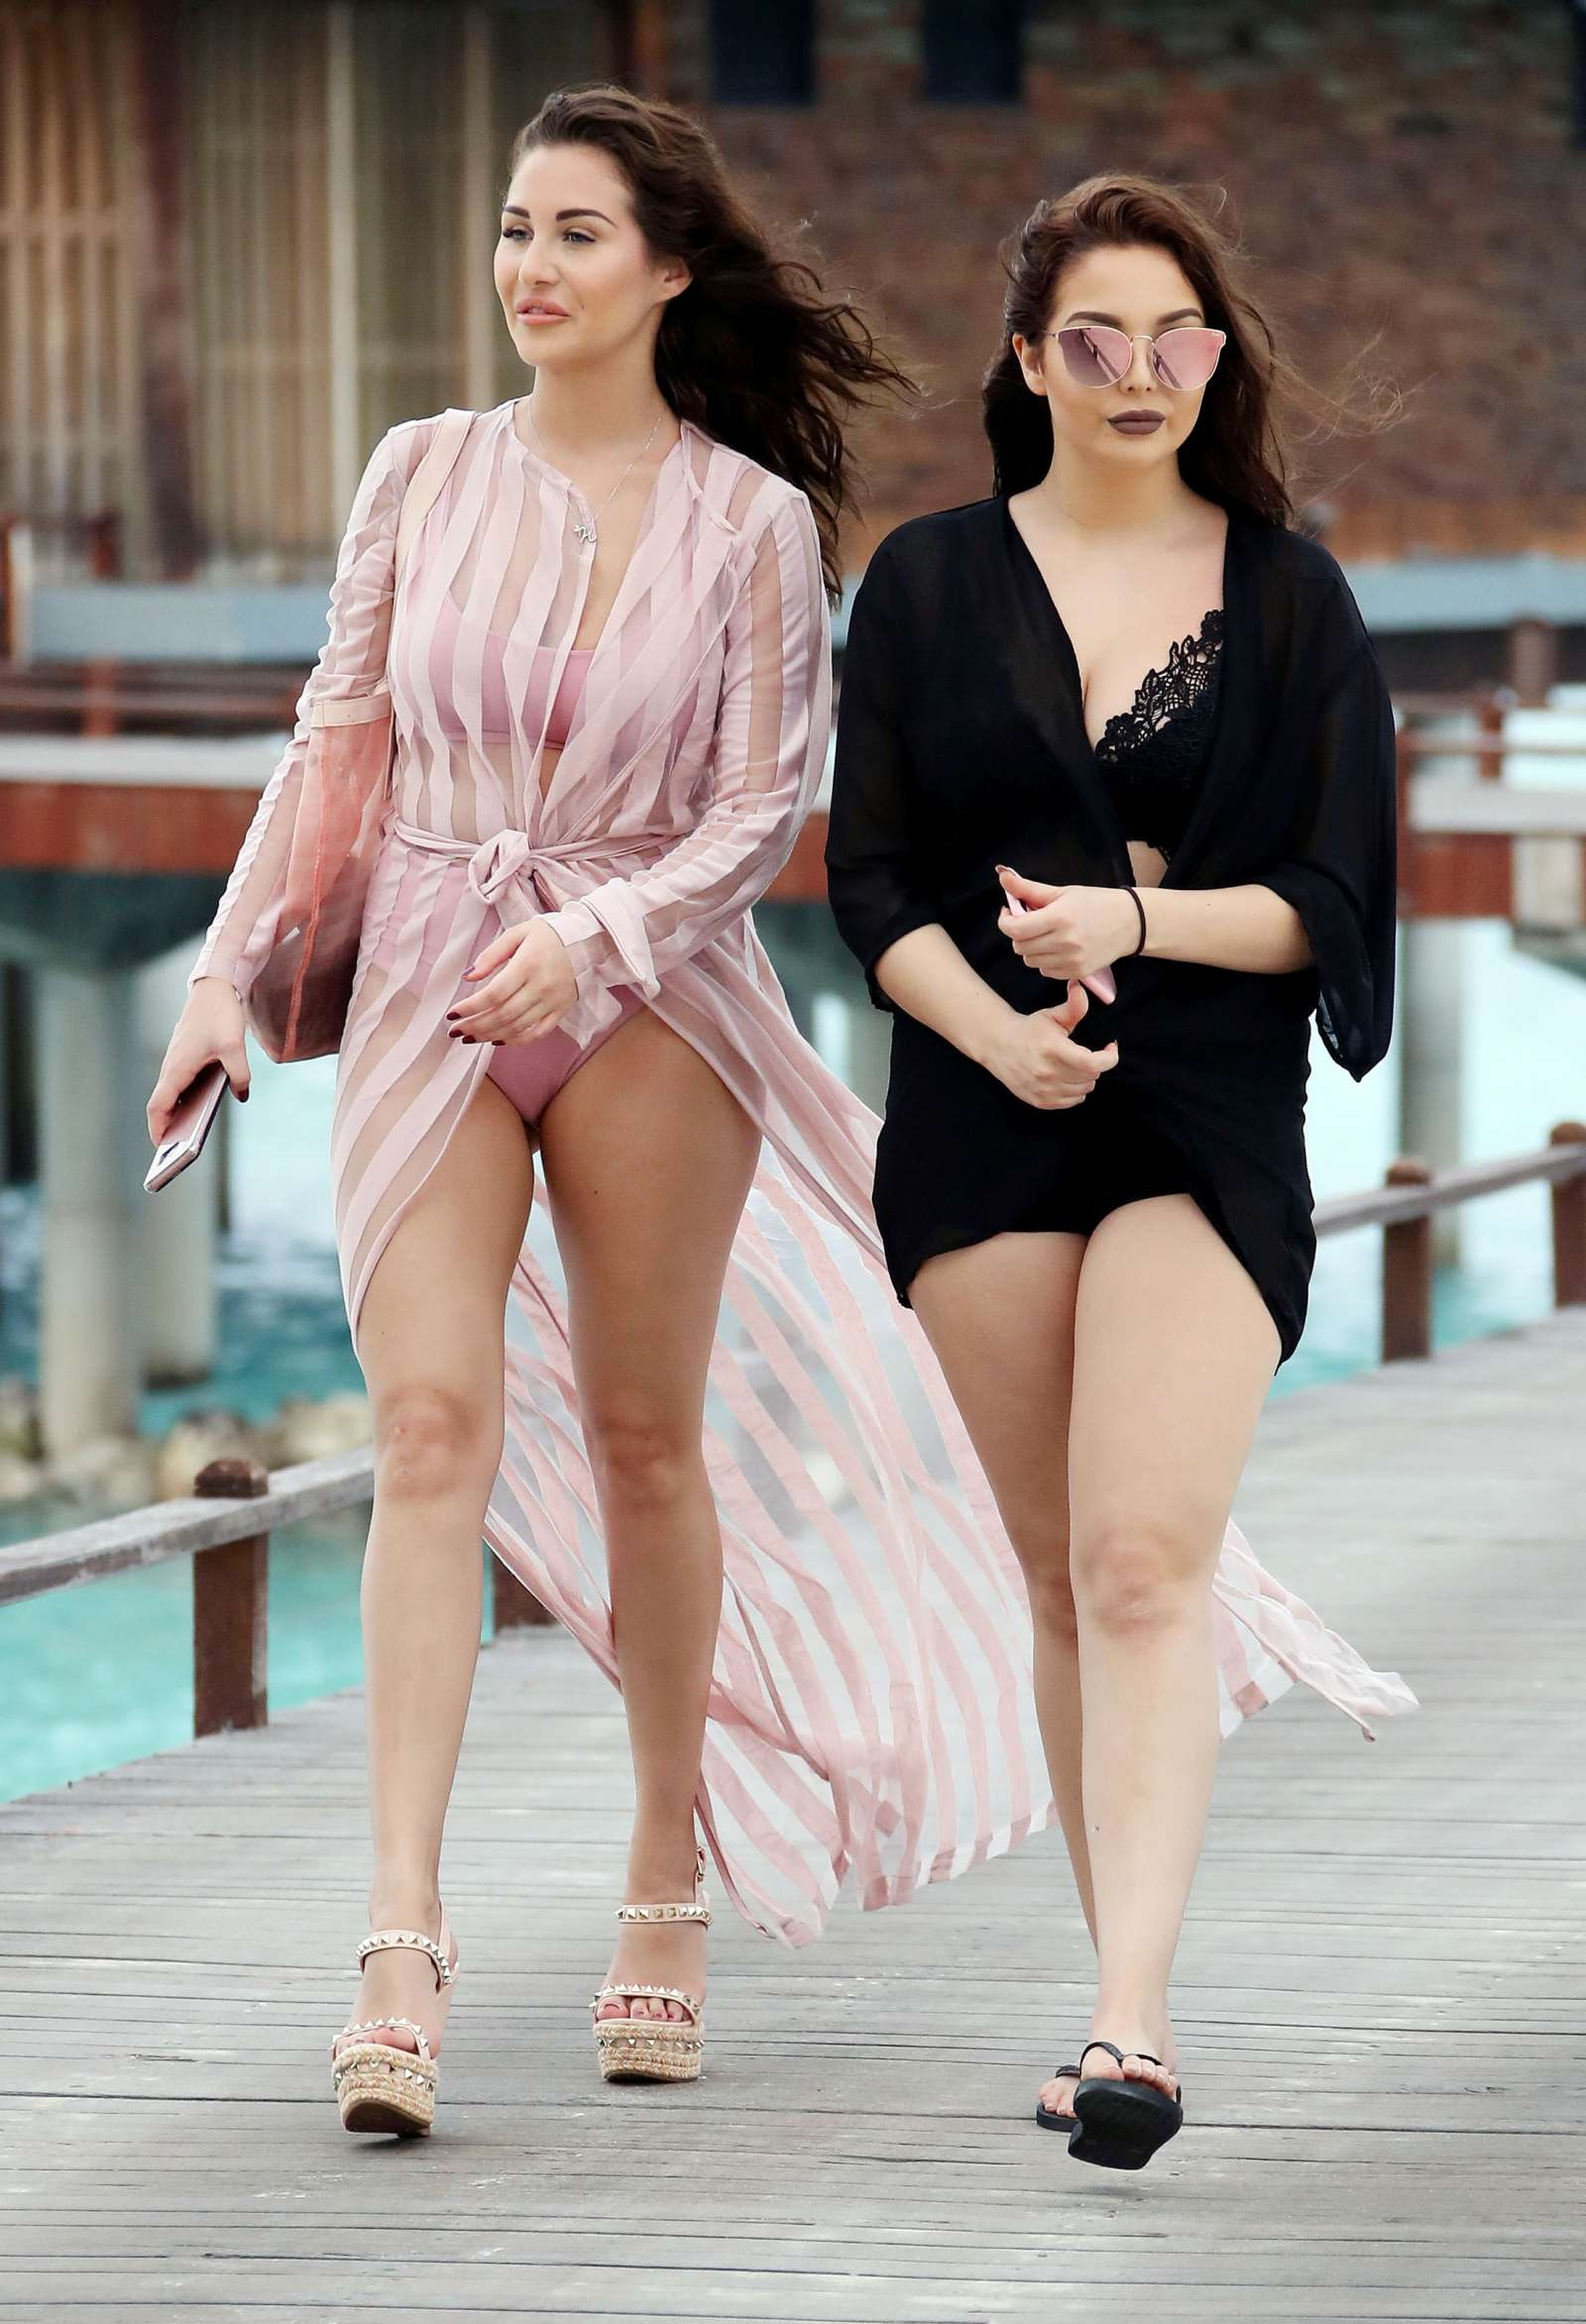Person: (145, 84, 824, 2153), (827, 170, 1404, 2172)
